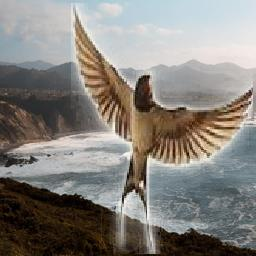Swallow: (71, 4, 253, 255)
